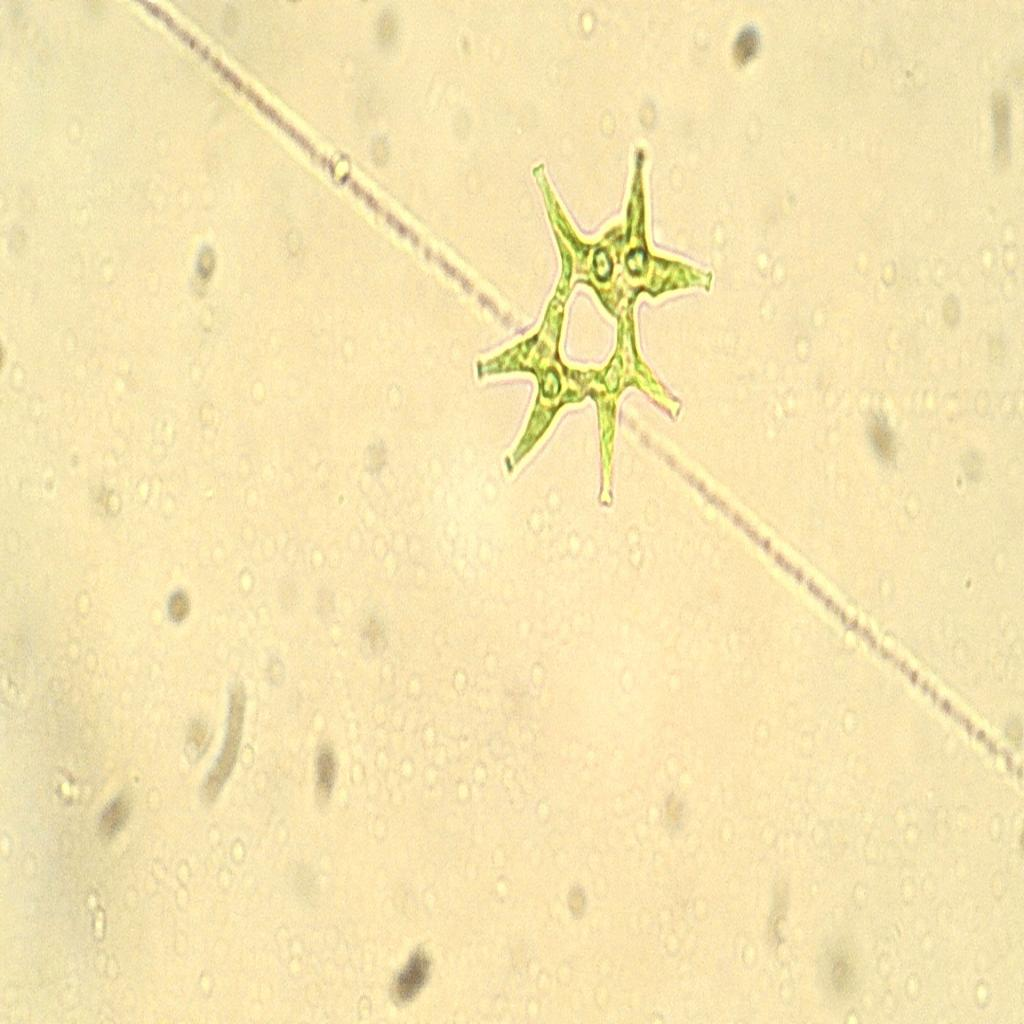Pediastrum_75FI: (470, 134, 723, 520)
